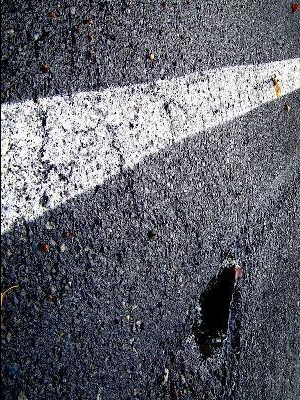pothole: (174, 256, 247, 378)
